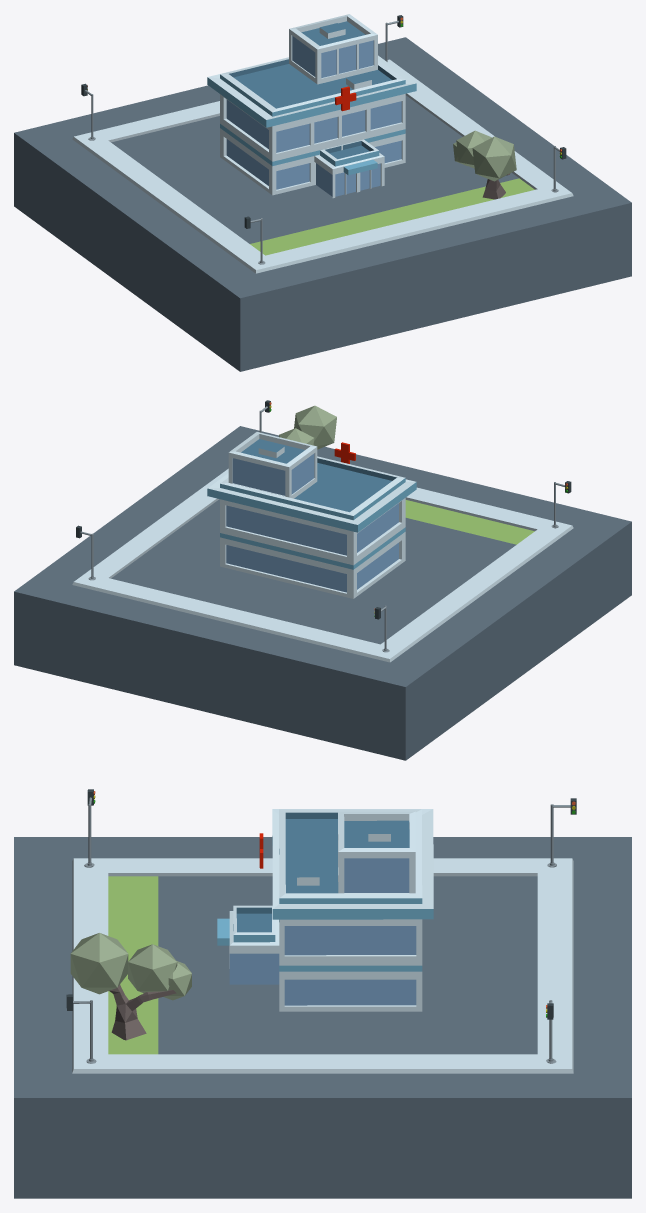
The model's file is hospital.glb.
3 renders of one model, top to bottom at view 1: azimuth 30°, elevation 25°; view 2: azimuth 150°, elevation 25°; view 3: azimuth 270°, elevation 25°, orthographic. The views are drawn at different scales.
Visible parts, largest first — view 1: Cube.001, Cube, Plane; view 2: Cube.001, Cube, Plane; view 3: Cube.001, Cube, Plane.
Part boxes in pixels (x1,y1,x2,y2): Cube.001: (14, 37, 631, 371); Cube: (207, 14, 416, 198); Plane: (453, 130, 516, 199); Cube.001: (14, 426, 631, 760); Cube: (207, 432, 416, 598); Plane: (279, 405, 336, 449); Cube.001: (14, 837, 631, 1198); Cube: (217, 809, 433, 1011); Plane: (70, 933, 191, 1040).
Bounding box in the file's own units: 17.05 × 7.92 × 17.05.
